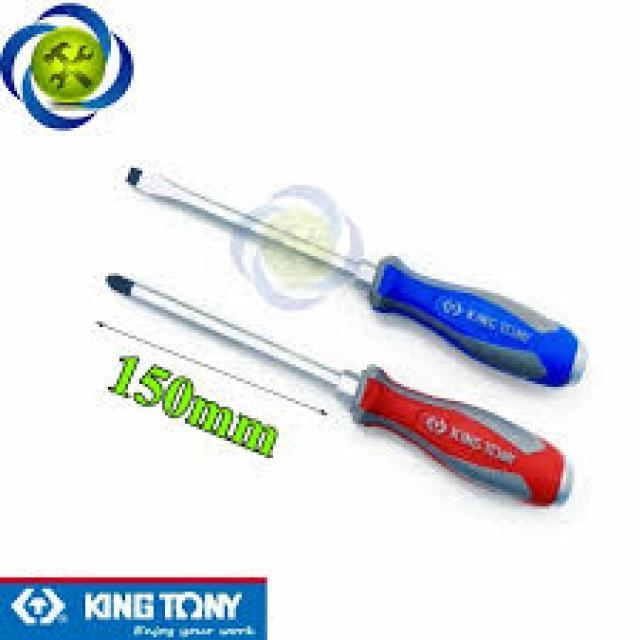screwdriver: (104, 267, 576, 512), (124, 162, 594, 390)
